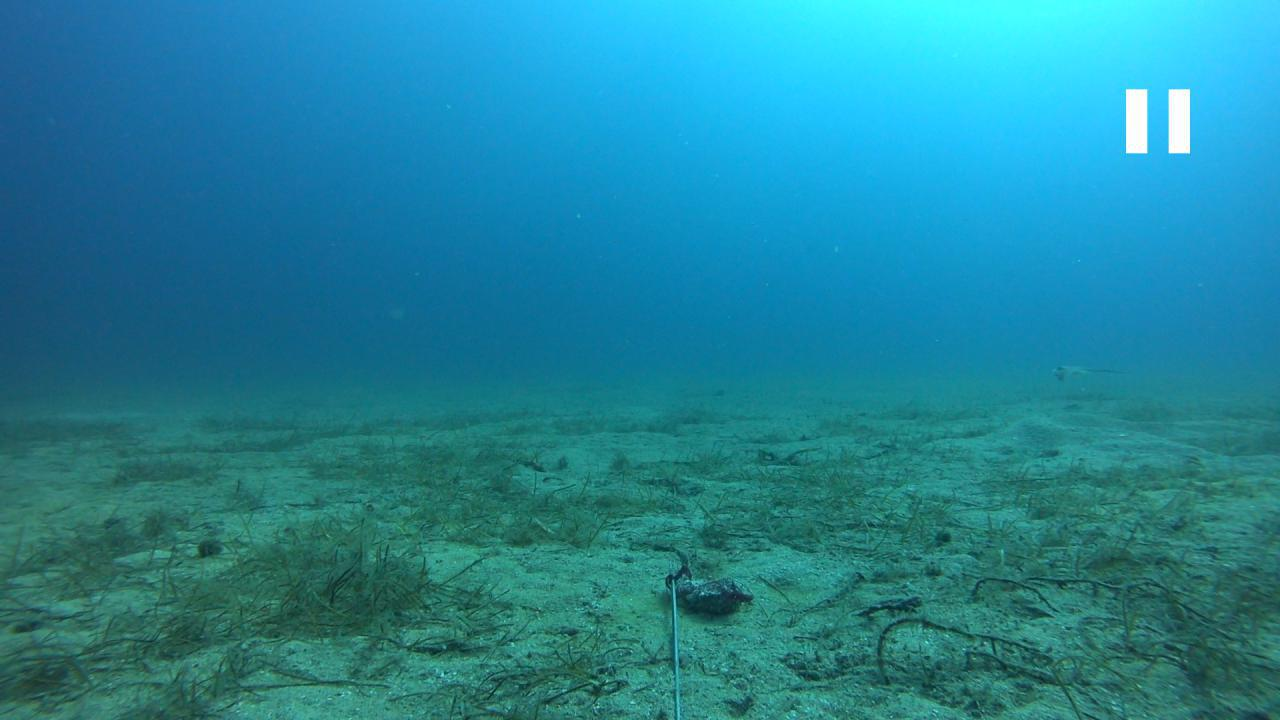dasyatis: (1049, 362, 1120, 379)
